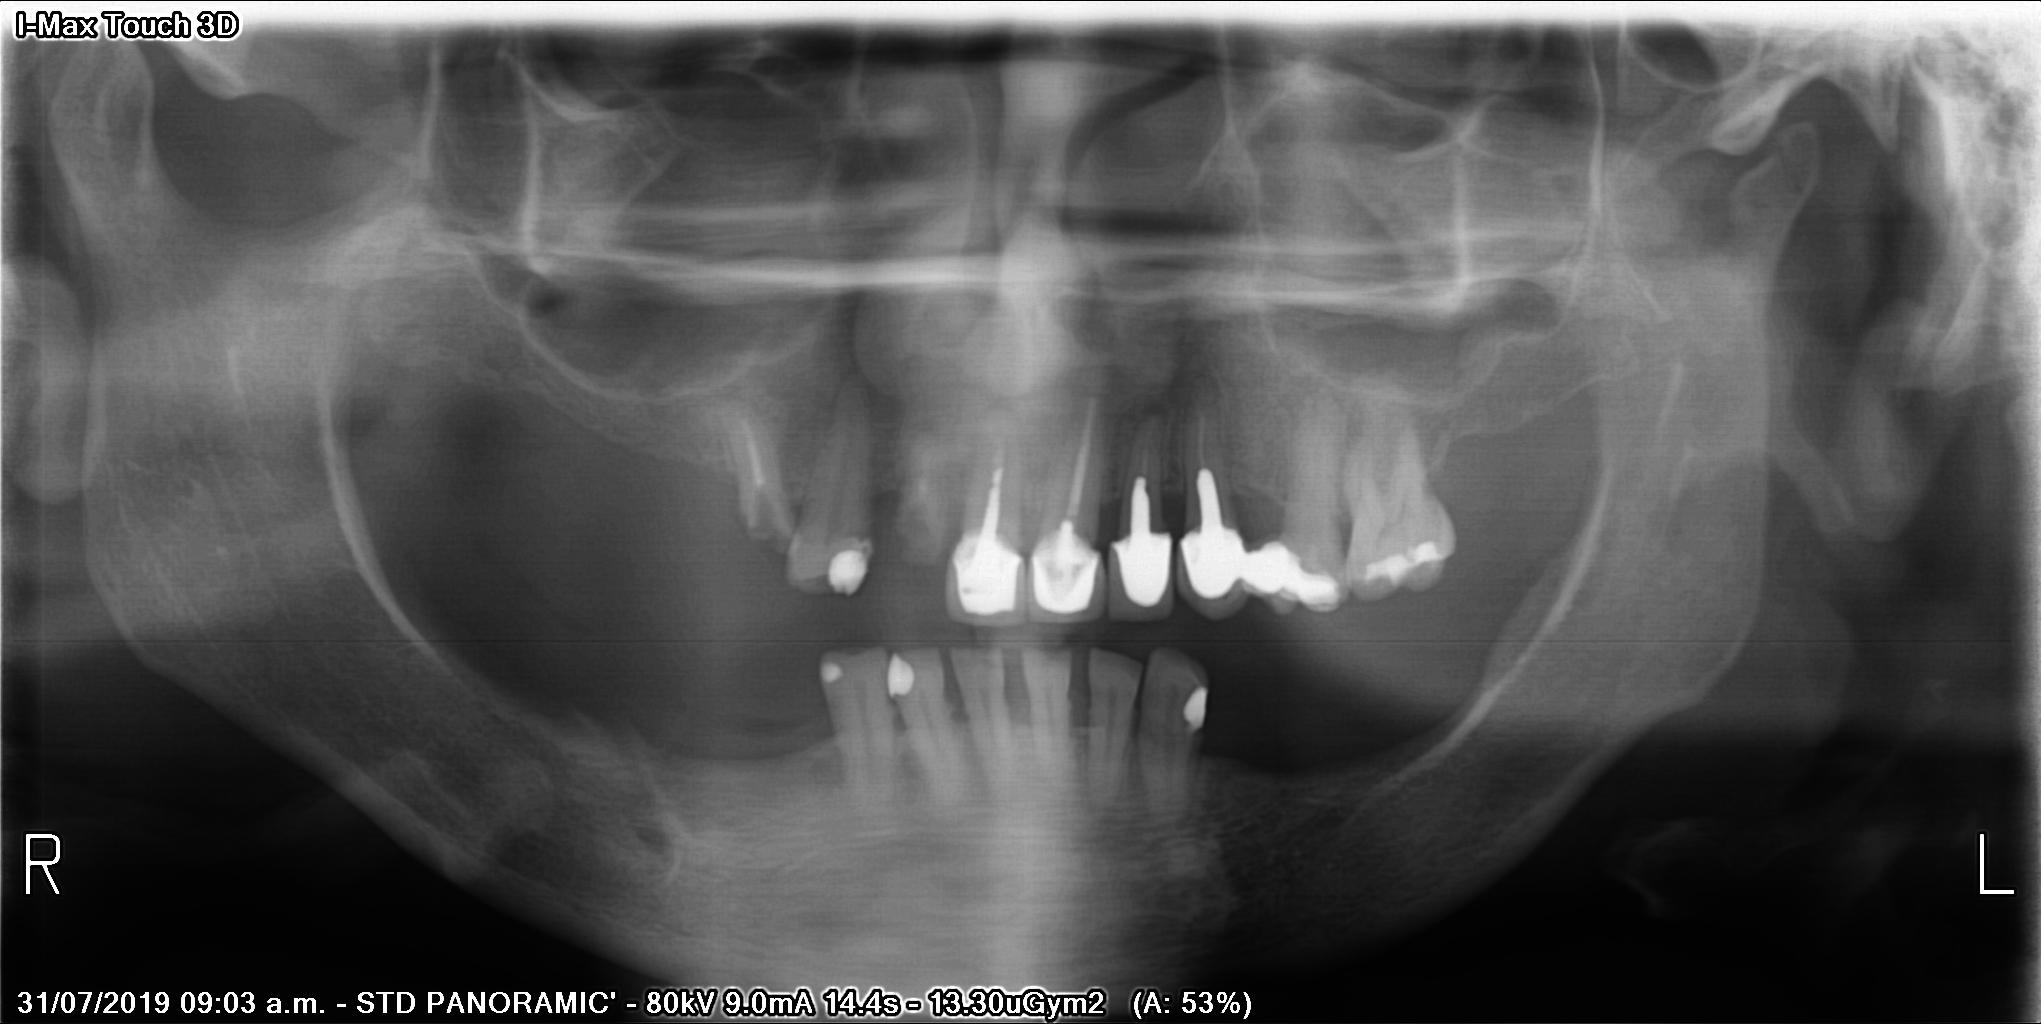Çürük: (1175, 460, 1246, 601), (1111, 472, 1171, 614), (1251, 541, 1353, 619), (944, 533, 1025, 628), (1028, 529, 1109, 620), (1358, 533, 1452, 597), (828, 549, 874, 596), (1183, 686, 1218, 733), (887, 654, 915, 697), (820, 667, 841, 683)
Çürük Bölgesi: (747, 524, 790, 552), (794, 576, 829, 594)
